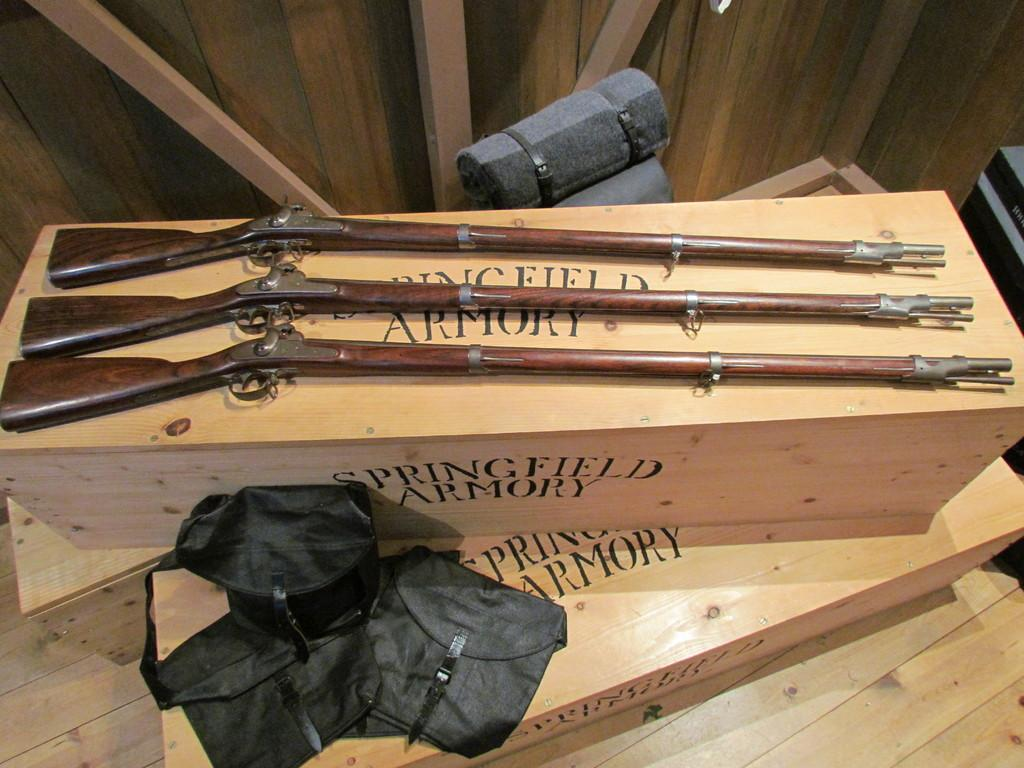weapon: (1, 323, 1013, 422), (27, 258, 975, 354), (46, 195, 948, 290)
